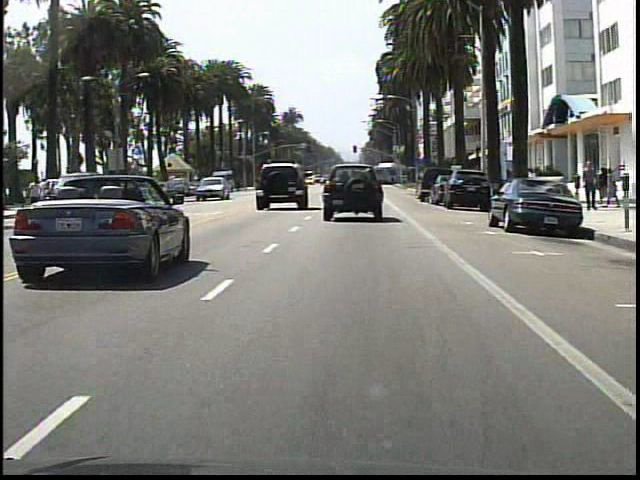person: (578, 156, 601, 214)
